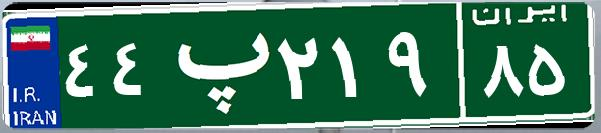1: (330, 28, 385, 110)
2: (273, 28, 330, 110)
4: (57, 26, 110, 107), (110, 28, 158, 105)
5: (525, 38, 570, 115)
8: (475, 38, 525, 113)
9: (385, 28, 445, 110)
پ: (158, 15, 273, 115)
